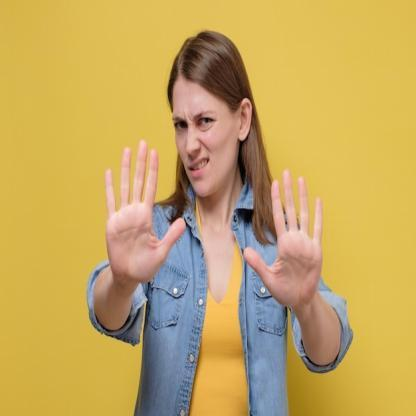stop: (99, 135, 187, 284), (242, 165, 325, 312)
